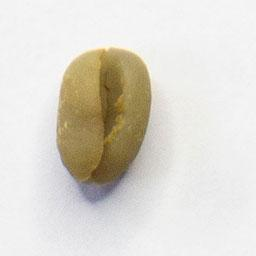peaberry: (50, 42, 157, 190)
